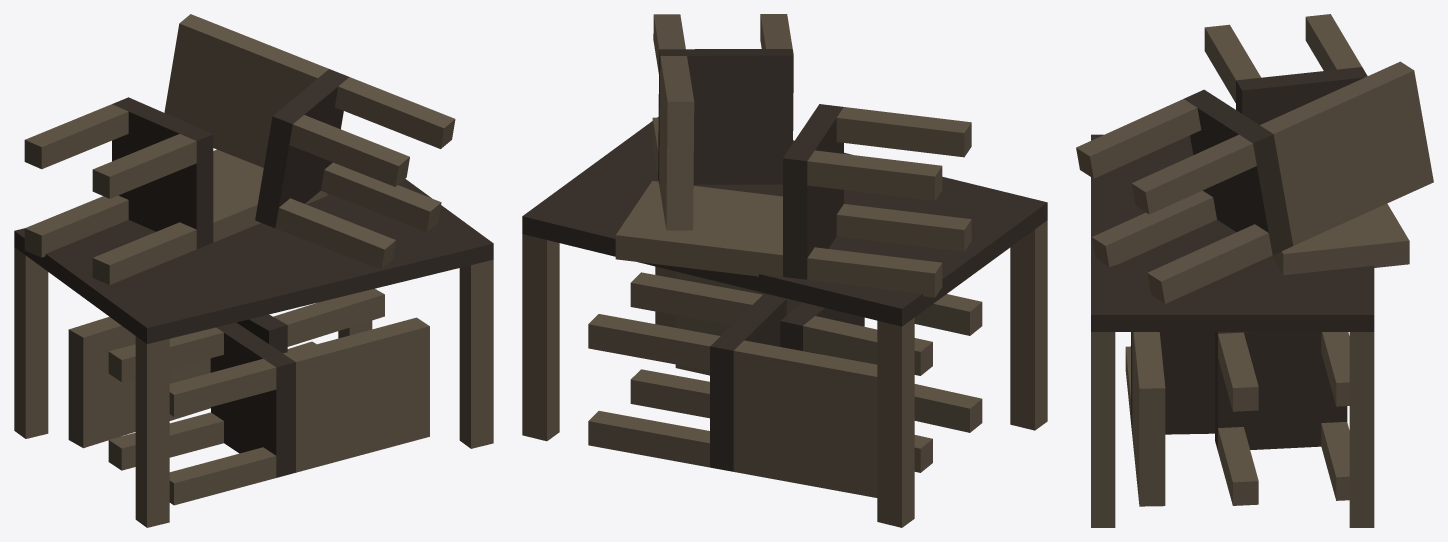
File: UnorganizedTable.fbx
3 renders of one model, left to right at view 1: azimuth 30°, elevation 25°; view 2: azimuth 150°, elevation 25°; view 3: azimuth 270°, elevation 25°, orthographic. The views are drawn at different scales.
Visible parts, largest first — view 1: UnorganizedTable1; view 2: UnorganizedTable1; view 3: UnorganizedTable1.
Boxes of the visible parts, x1,y1,x2,y2 form: UnorganizedTable1: (14,14,493,527); UnorganizedTable1: (522,14,1047,527); UnorganizedTable1: (1076,14,1433,527).
Bounding box in the file's own units: 1.24 × 1.18 × 1.01.
